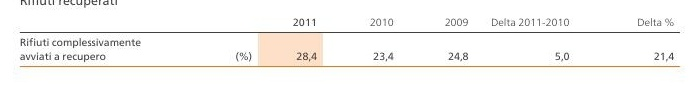table: (0, 0, 700, 86)
